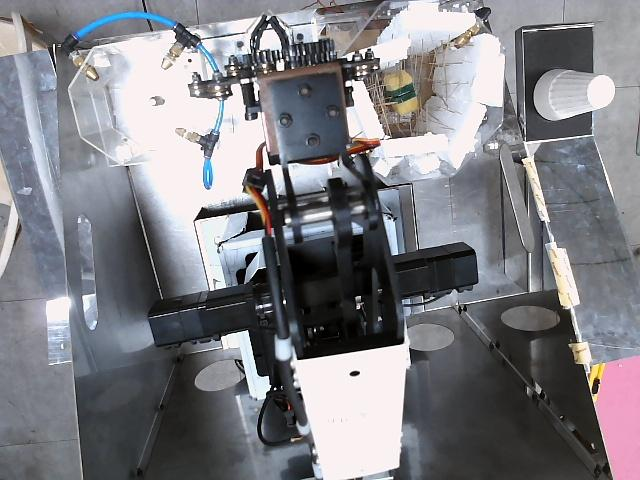cup: (534, 68, 615, 121)
